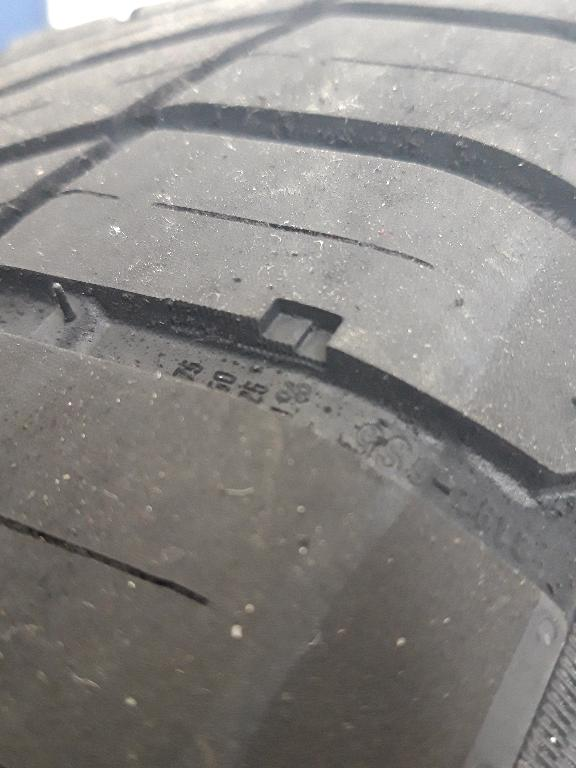temoin:50: (226, 286, 353, 384)
